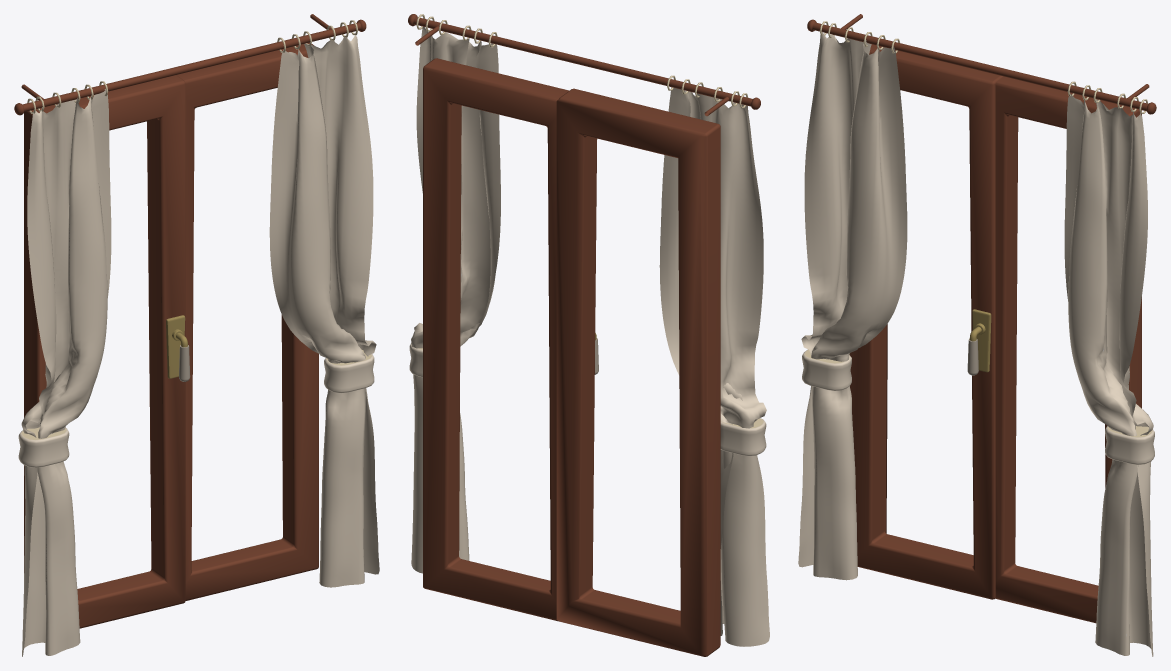
Rendered from Window.fbx.
3 views of the same model, side by side, from view 1: azimuth 30°, elevation 25°; view 2: azimuth 150°, elevation 25°; view 3: azimuth 330°, elevation 25° (orthographic).
Visible parts, largest first — view 1: Window; view 2: Window; view 3: Window.
Part boxes in pixels (left/top/right/bottom): Window: left=14, top=14, right=379, bottom=656; Window: left=408, top=14, right=769, bottom=656; Window: left=798, top=14, right=1156, bottom=656.
Size of the model in its own units: 143 by 212 by 27.15.
